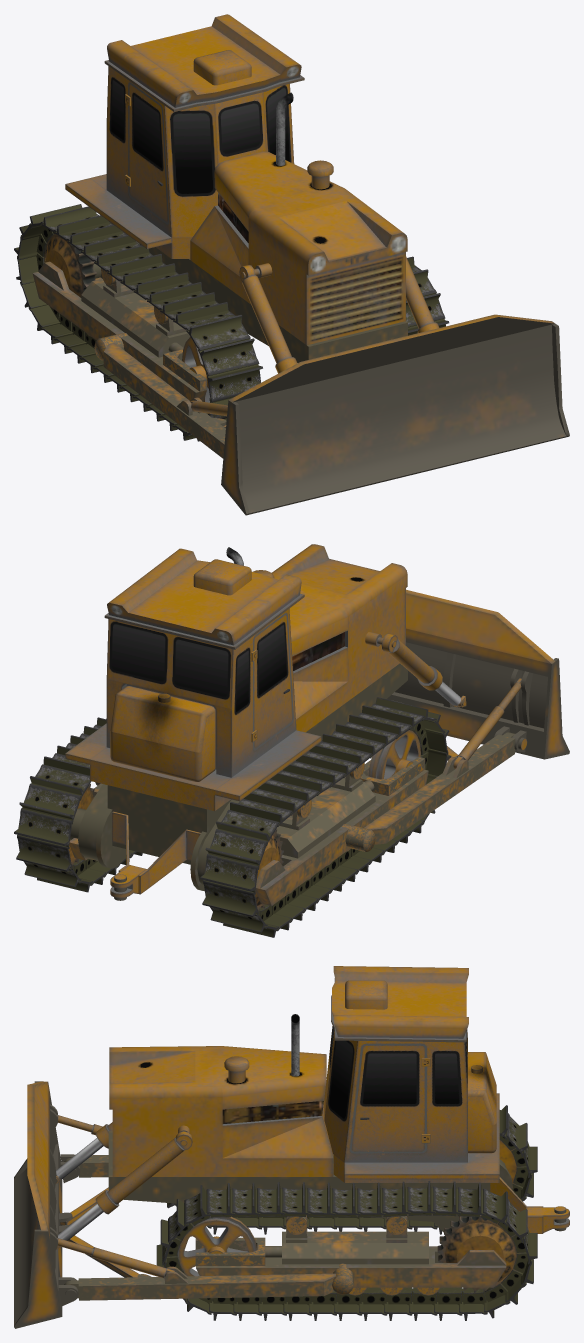
3 views of the same model, one above another, from view 1: azimuth 30°, elevation 25°; view 2: azimuth 150°, elevation 25°; view 3: azimuth 270°, elevation 25° (orthographic). The views are drawn at different scales.
Visible parts, largest first — view 1: Cube.001_low; view 2: Cube.001_low; view 3: Cube.001_low.
Boxes of the visible parts, box(x1,y1,x2,y2) form: Cube.001_low: box(14, 14, 569, 515); Cube.001_low: box(14, 544, 569, 937); Cube.001_low: box(14, 966, 569, 1328).
Size of the model in its own units: 3.2 by 2.77 by 5.02.
1 material, 1 textured.
